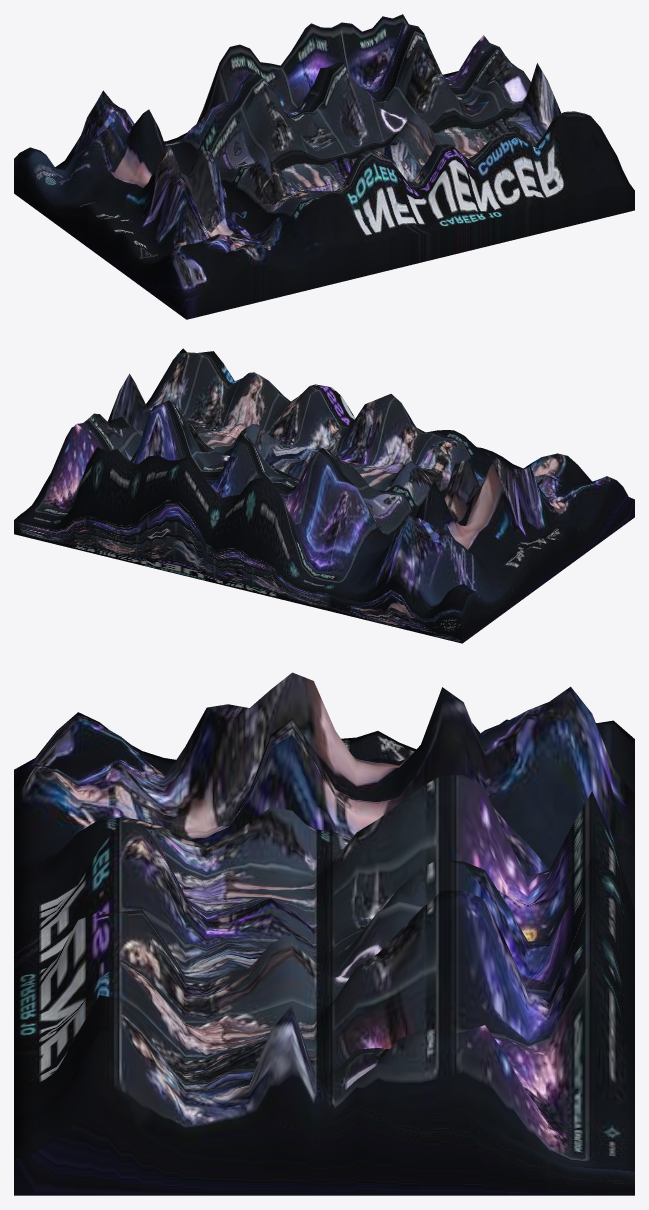
Rendered from CAREER_10_Poster_21.glb.
3 views of the same model, one above another, from view 1: azimuth 30°, elevation 25°; view 2: azimuth 150°, elevation 25°; view 3: azimuth 270°, elevation 25° (orthographic). The views are drawn at different scales.
Parts seen in each view (by area): view 1: CAREER_10_Poster_21; view 2: CAREER_10_Poster_21; view 3: CAREER_10_Poster_21.
Boxes of the visible parts, x1,y1,x2,y2 form: CAREER_10_Poster_21: (14, 14, 634, 319); CAREER_10_Poster_21: (14, 348, 634, 643); CAREER_10_Poster_21: (14, 672, 634, 1195).
Size of the model in its own units: 2 by 0.51 by 1.33.
1 material, 1 textured.
